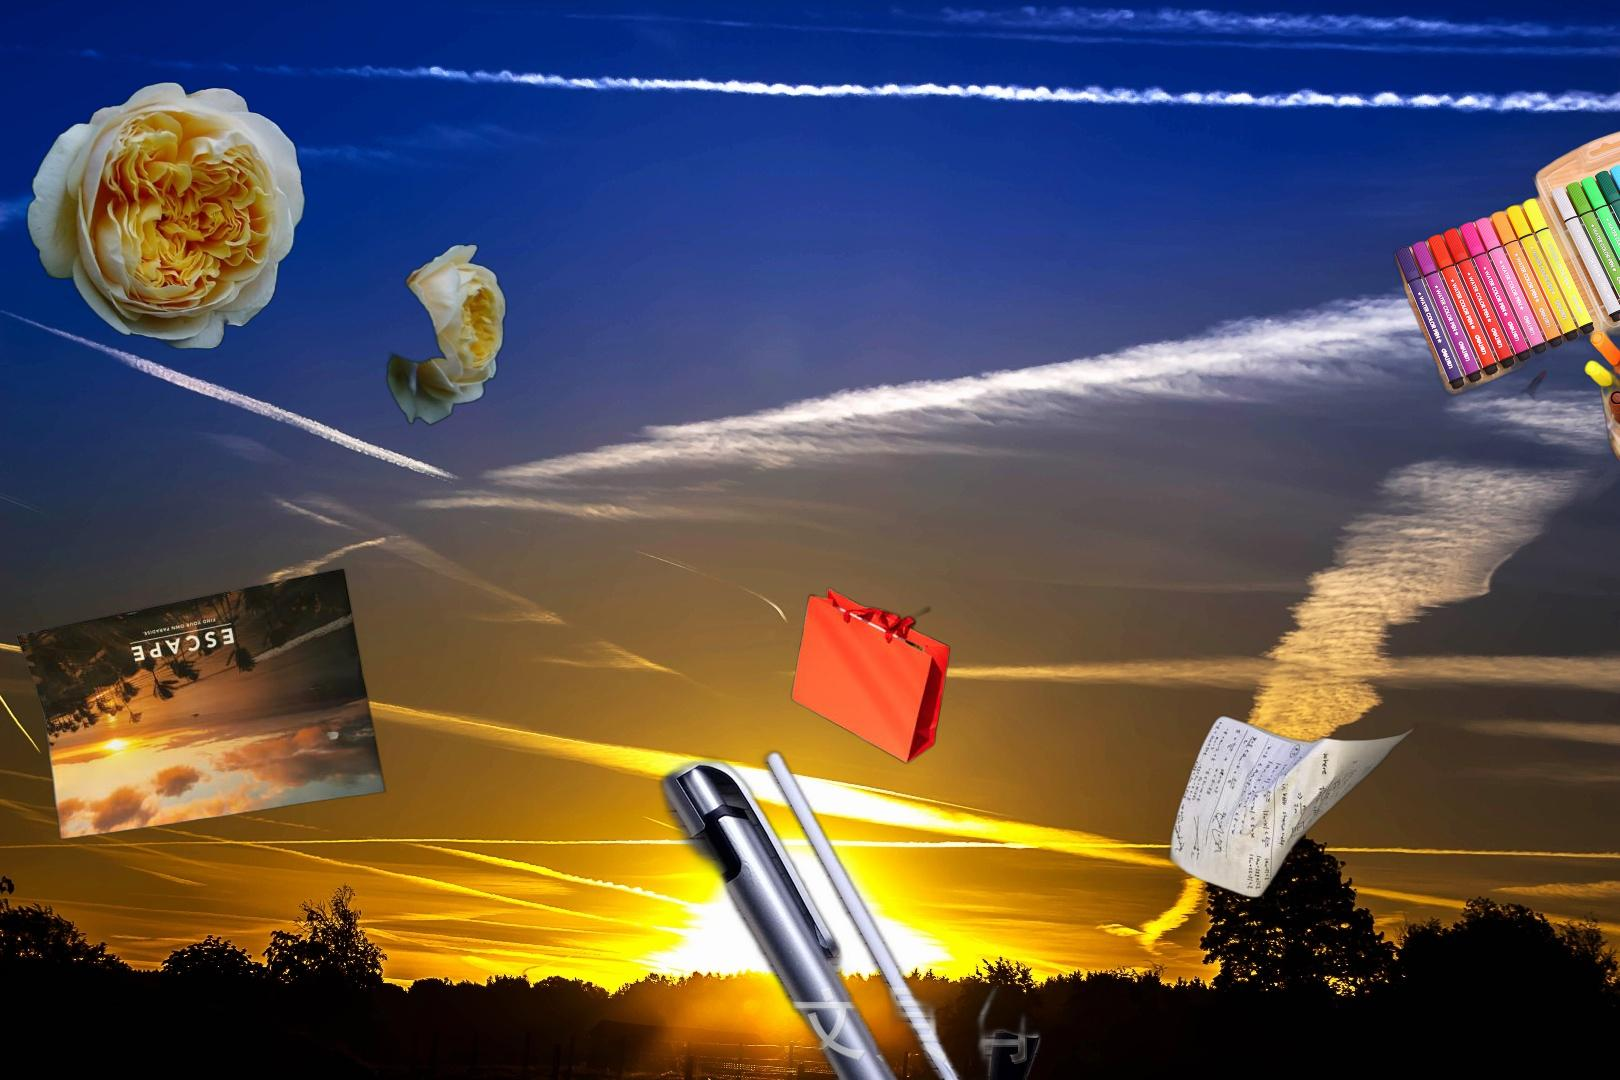biological: (20, 80, 512, 428)
paper: (12, 567, 391, 843), (1166, 714, 1419, 899)
paper-bag: (790, 585, 952, 765)
penholder: (652, 742, 1049, 1080), (1389, 118, 1620, 476)
